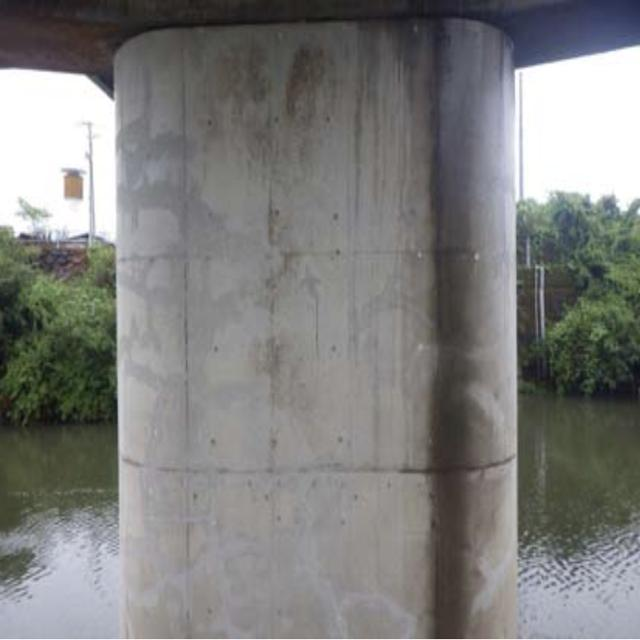leakage: (417, 13, 522, 636)
